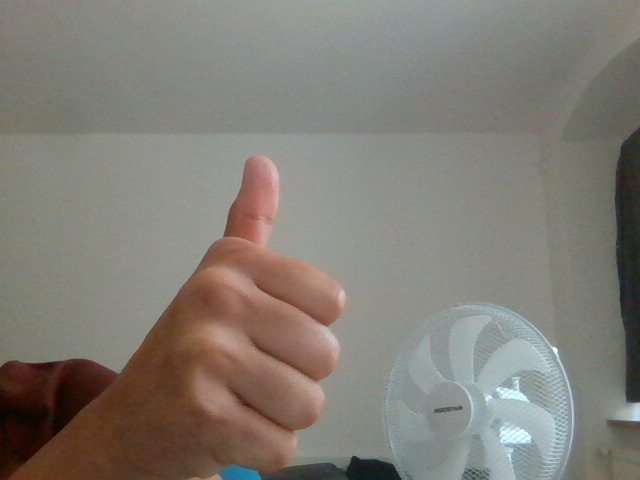thumbs_up: (141, 150, 349, 473)
